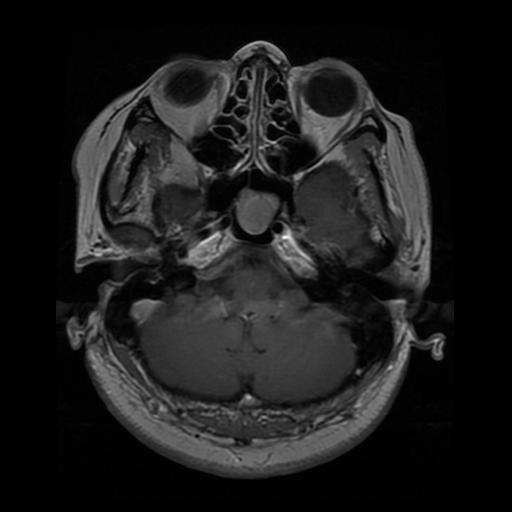Tumour-Pituitary: (233, 195, 282, 241)
